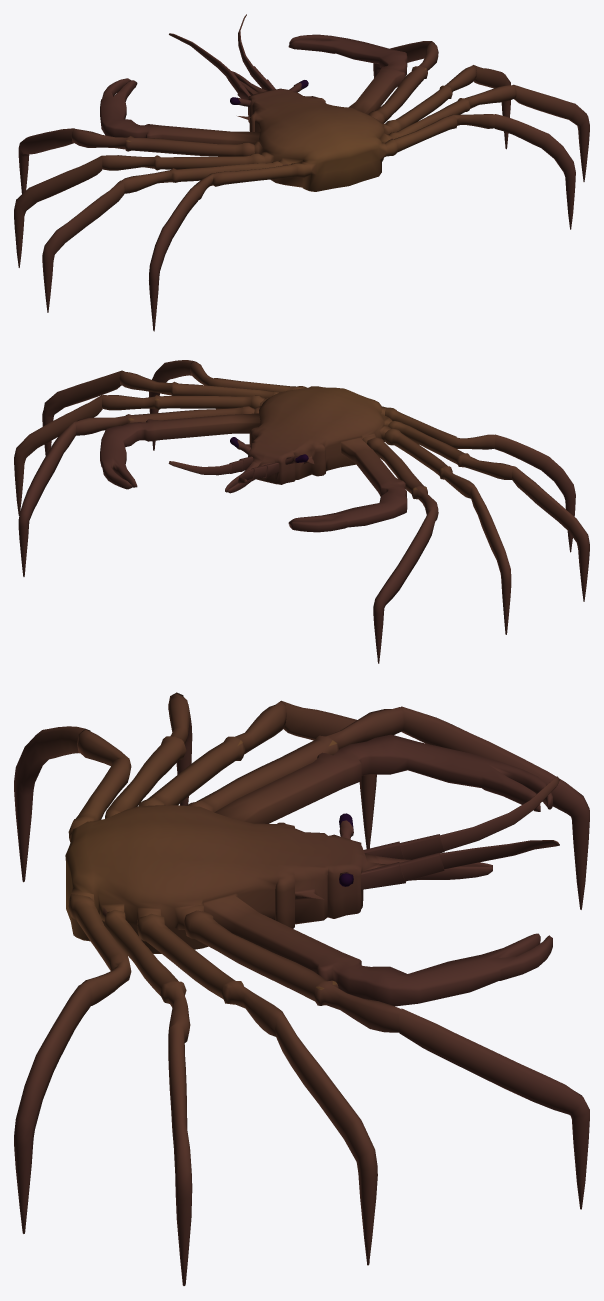
The model's file is Decorator Crab.fbx.
3 views of the same model, one above another, from view 1: azimuth 30°, elevation 25°; view 2: azimuth 150°, elevation 25°; view 3: azimuth 270°, elevation 25° (orthographic). The views are drawn at different scales.
Visible parts, largest first — view 1: Cube; view 2: Cube; view 3: Cube.
Boxes of the visible parts, x1,y1,x2,y2 form: Cube: (14,14,589,331); Cube: (14,360,589,663); Cube: (14,692,589,1285).
Bounding box in the file's own units: 425 × 108 × 224.
